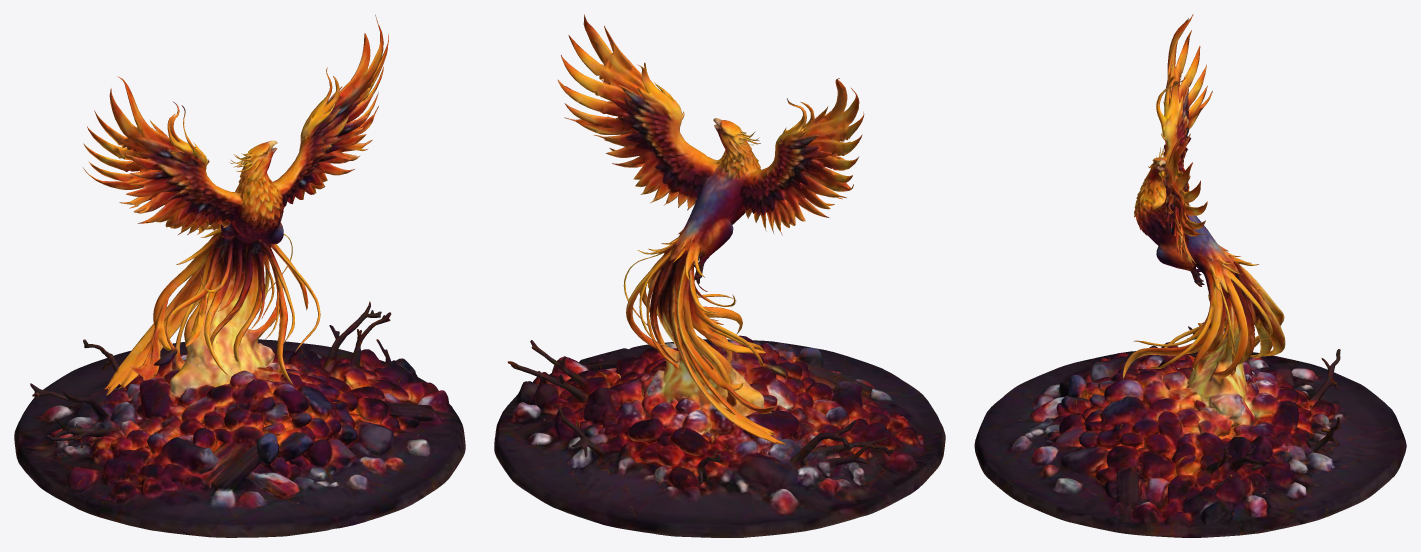
The model's file is mini_ef15.glb.
3 renders of one model, left to right at view 1: azimuth 30°, elevation 25°; view 2: azimuth 150°, elevation 25°; view 3: azimuth 270°, elevation 25°, orthographic. The views are drawn at different scales.
Bounding box in the file's own units: 1.9 × 1.83 × 1.9.
1 material, 1 textured.
